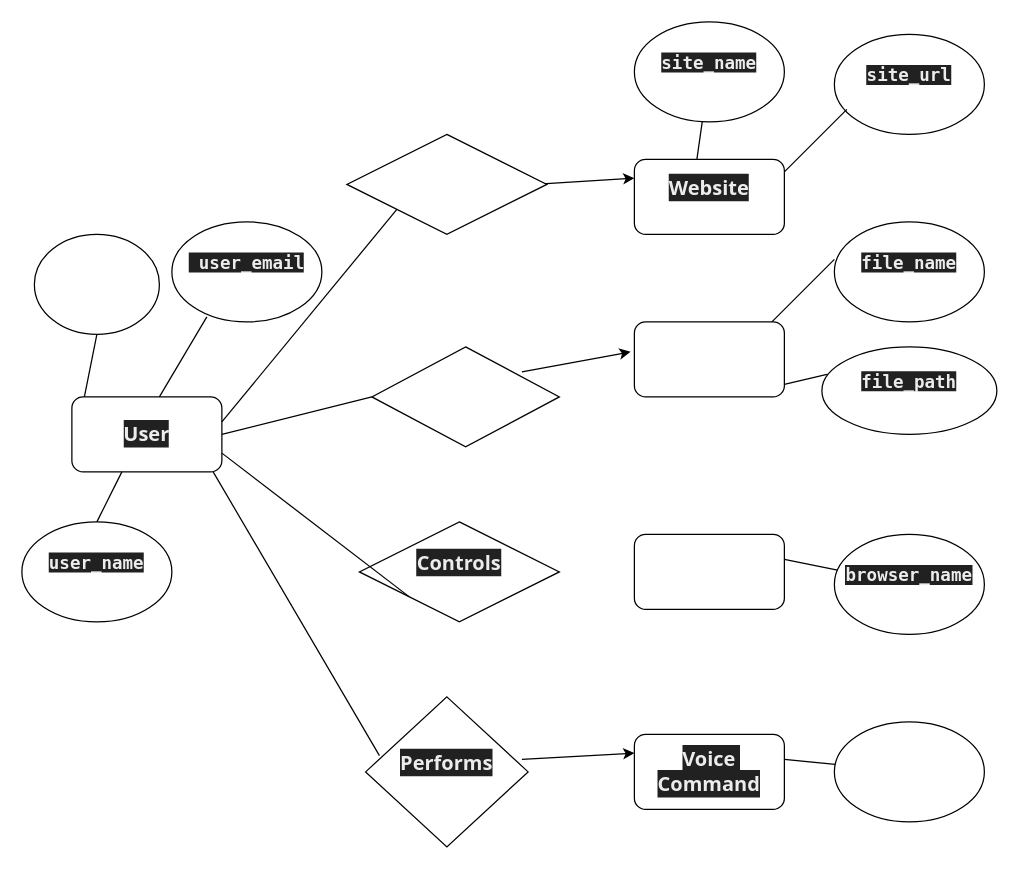
Some shapes in this 1019 by 869 pixel diagram are drawn without their labels. The centre of each missing label's shape, as x and y in pixels:
Browser: point (708, 571)
Browses: point (446, 183)
File: point (708, 359)
Opens: point (465, 396)
query: point (908, 771)
user_id: point (96, 283)
